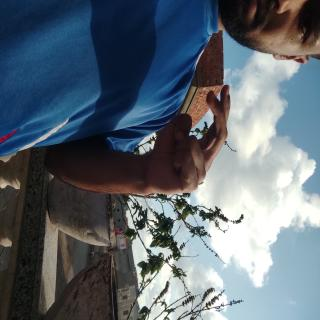ZAY: (57, 107, 151, 237)
